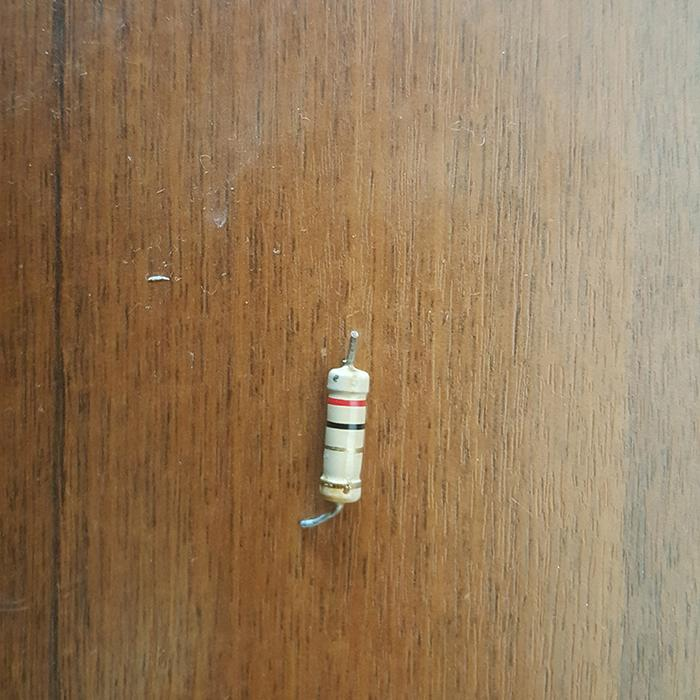resistor: (320, 362, 373, 510)
